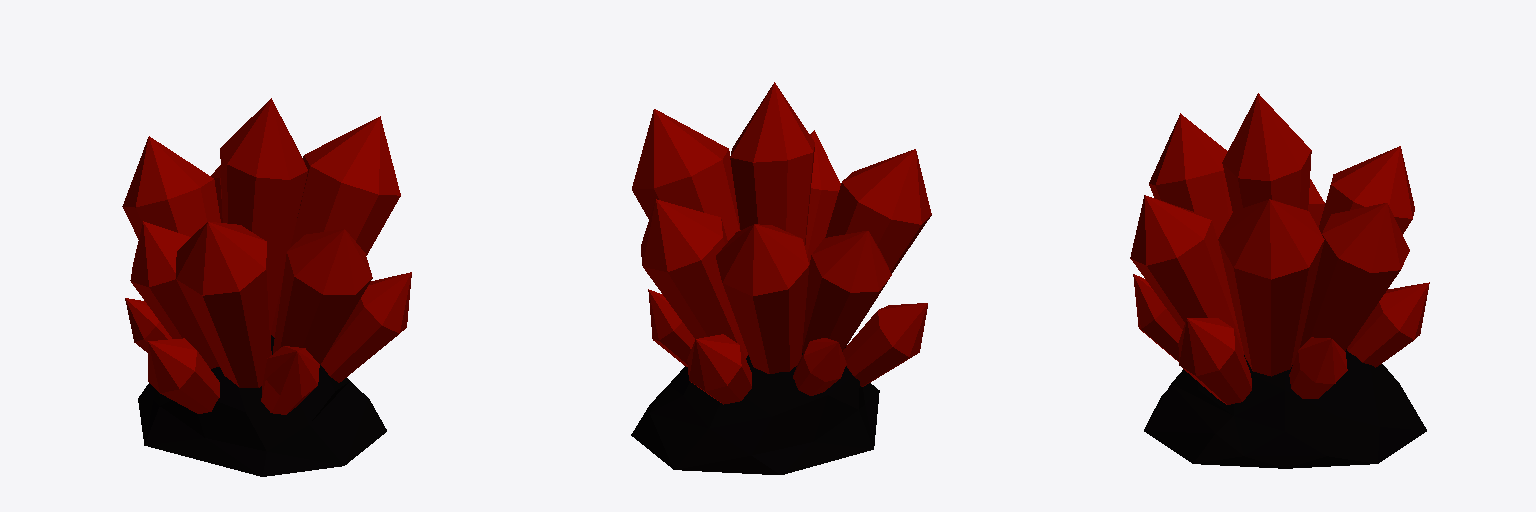
File: Crystal.obj
The picture shows the model from 3 angles: view 1: azimuth 30°, elevation 25°; view 2: azimuth 150°, elevation 25°; view 3: azimuth 270°, elevation 25°; orthographic projection.
Visible parts, largest first — view 1: Crystal_Cylinder.007; view 2: Crystal_Cylinder.007; view 3: Crystal_Cylinder.007.
Boxes of the visible parts, x1=… form: Crystal_Cylinder.007: x1=122, y1=98, x2=411, y2=476; Crystal_Cylinder.007: x1=631, y1=82, x2=931, y2=474; Crystal_Cylinder.007: x1=1130, y1=93, x2=1429, y2=468.
Bounding box in the file's own units: 1.35 × 1.58 × 1.3.